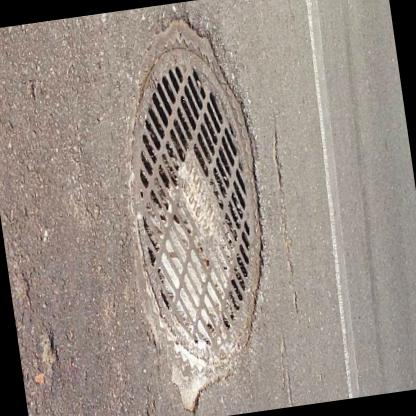manholes: (90, 25, 292, 394)
